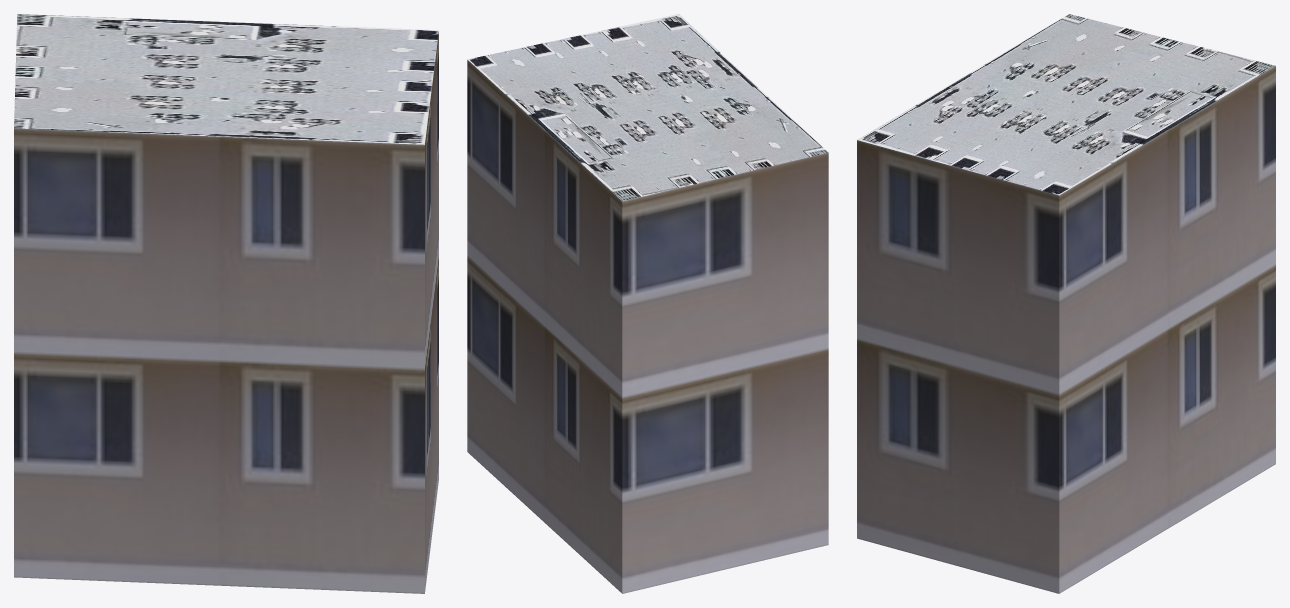
Rendered from ResTex__3341.fbx.
3 views of the same model, side by side, from view 1: azimuth 30°, elevation 25°; view 2: azimuth 150°, elevation 25°; view 3: azimuth 270°, elevation 25° (orthographic). The views are drawn at different scales.
Visible parts, largest first — view 1: CityEngineMaterial_21_m, CityEngineMaterial_4_m; view 2: CityEngineMaterial_21_m, CityEngineMaterial_4_m; view 3: CityEngineMaterial_21_m, CityEngineMaterial_4_m.
Boxes of the visible parts, x1,y1,x2,y2 form: CityEngineMaterial_21_m: (14,32,438,593); CityEngineMaterial_4_m: (14,14,438,144); CityEngineMaterial_21_m: (467,60,828,593); CityEngineMaterial_4_m: (467,14,828,201); CityEngineMaterial_21_m: (857,66,1275,593); CityEngineMaterial_4_m: (857,14,1275,195).
Size of the model in its own units: 5.86 by 6 by 5.72.
2 materials, 2 textured.
